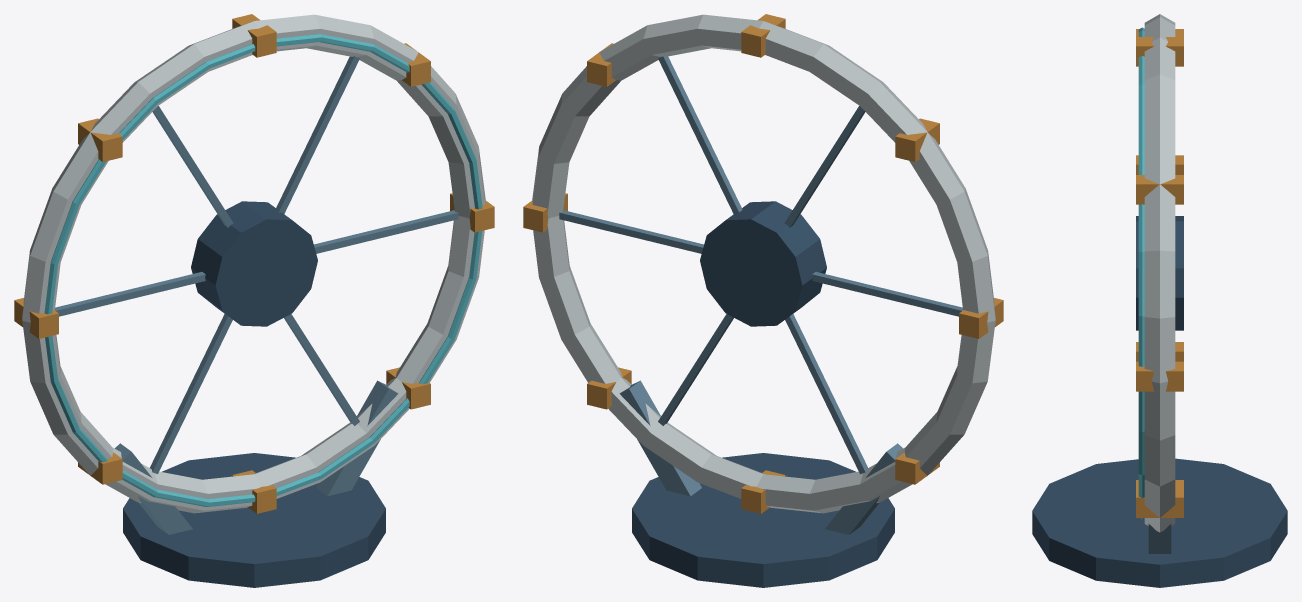
File: SpaceStation_OrbitalRingBackdrop_Standard.glb
The picture shows the model from 3 angles, left to right: view 1: azimuth 30°, elevation 25°; view 2: azimuth 150°, elevation 25°; view 3: azimuth 270°, elevation 25°; orthographic projection. The views are drawn at different scales.
Visible parts, largest first — view 1: SpaceStation_OrbitalRingBackdrop_Standard; view 2: SpaceStation_OrbitalRingBackdrop_Standard; view 3: SpaceStation_OrbitalRingBackdrop_Standard.
Part boxes in pixels (<box>): SpaceStation_OrbitalRingBackdrop_Standard: <box>14,14,494,587</box>; SpaceStation_OrbitalRingBackdrop_Standard: <box>523,14,1003,587</box>; SpaceStation_OrbitalRingBackdrop_Standard: <box>1032,14,1287,587</box>.
Bounding box in the file's own units: 16.3 × 17.15 × 8.
